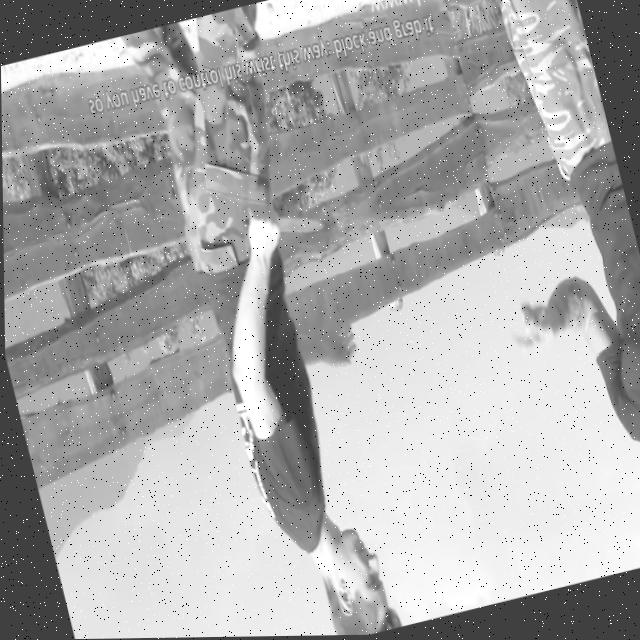knife: (274, 200, 325, 242)
